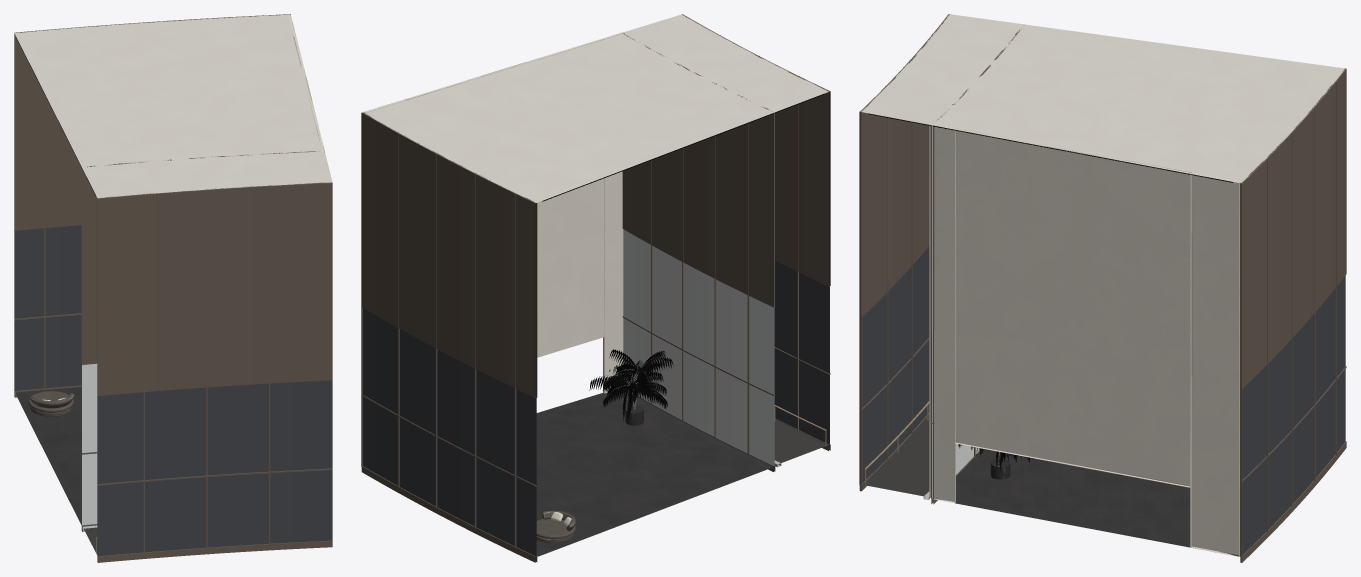
3 renders of one model, left to right at view 1: azimuth 30°, elevation 25°; view 2: azimuth 150°, elevation 25°; view 3: azimuth 270°, elevation 25°, orthographic. The views are drawn at different scales.
Visible parts, largest first — view 1: c0180; view 2: c0180, c0180 leaves; view 3: c0180, c0180 leaves.
Boxes of the visible parts, x1,y1,x2,y2 form: c0180: [14, 14, 332, 562]; c0180: [361, 14, 830, 562]; c0180 leaves: [542, 94, 823, 422]; c0180: [859, 14, 1346, 562]; c0180 leaves: [869, 113, 1232, 470].
Bounding box in the file's own units: 19.49 × 20.31 × 23.63.
Materials: 10 (2 with a texture image).
